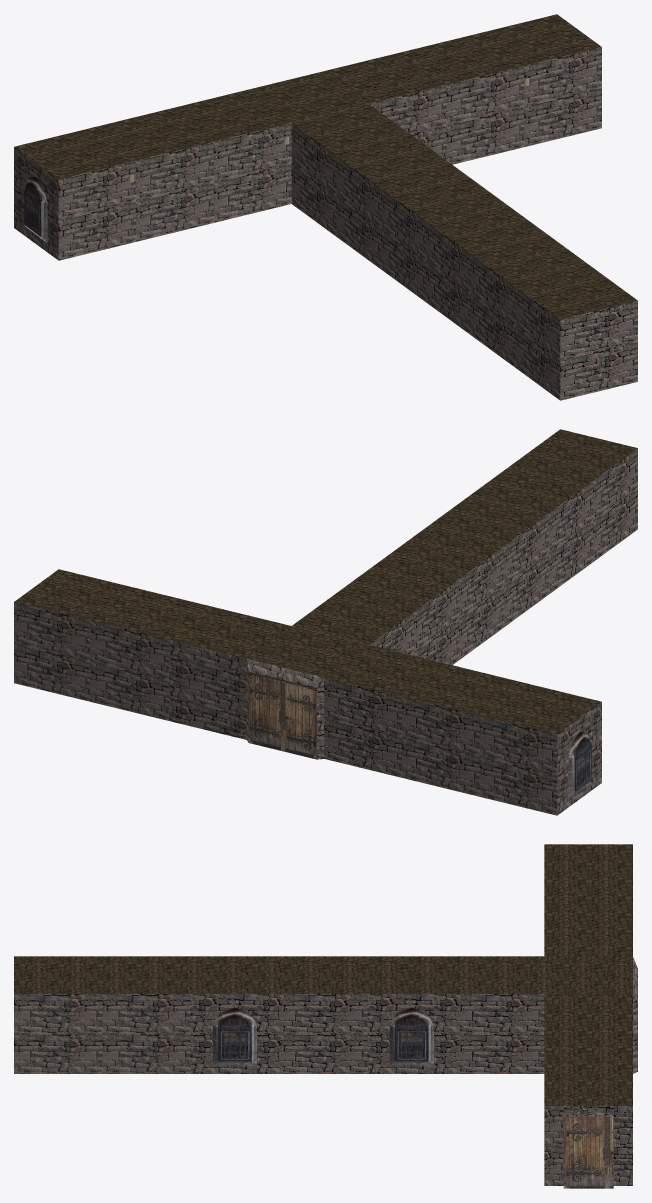
File: corridor_bake3.fbx
3 views of the same model, one above another, from view 1: azimuth 30°, elevation 25°; view 2: azimuth 150°, elevation 25°; view 3: azimuth 270°, elevation 25° (orthographic).
Visible parts, largest first — view 1: Corridor_bake, Ceiling_bake; view 2: Corridor_bake, Ceiling_bake; view 3: Corridor_bake, Ceiling_bake.
Part boxes in pixels (x1=…): Corridor_bake: x1=14, y1=47, x2=637, y2=400; Ceiling_bake: x1=14, y1=14, x2=637, y2=319; Corridor_bake: x1=14, y1=448, x2=637, y2=815; Ceiling_bake: x1=14, y1=429, x2=637, y2=734; Corridor_bake: x1=14, y1=957, x2=637, y2=1188; Ceiling_bake: x1=14, y1=844, x2=632, y2=1105.
Size of the model in its own units: 1424 by 200 by 1412.
